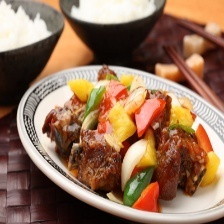rice: (68, 1, 156, 23)
